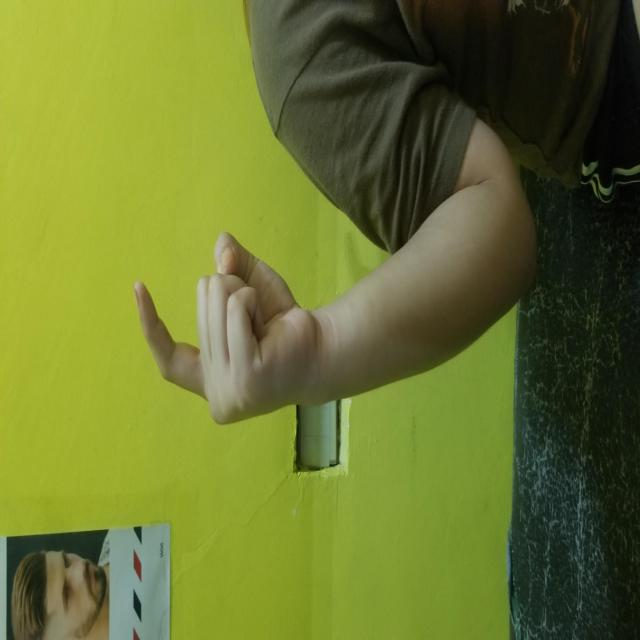X: (214, 132, 408, 316)
